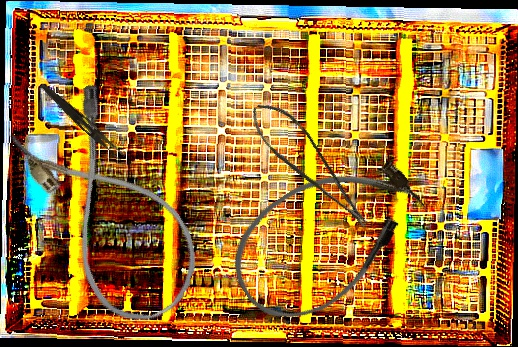Cannula: (3, 78, 219, 339), (212, 134, 442, 341)
Dressing Forceps: (36, 81, 128, 162)
Micro Scissor: (243, 90, 373, 246)
